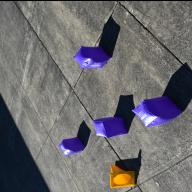cone: (110, 162, 136, 188)
cube: (132, 94, 182, 126), (73, 45, 111, 68), (92, 116, 128, 138), (58, 136, 86, 155)
